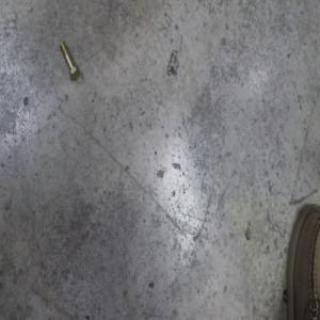Bolttrack_idkeyframe: (59, 40, 80, 82)
